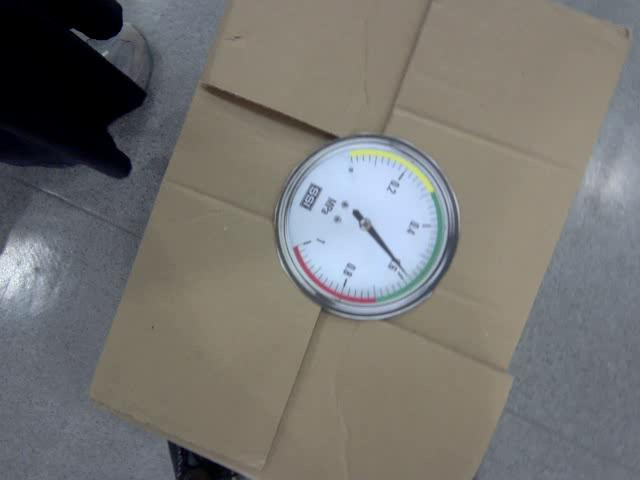Dashboard: (272, 133, 461, 322)
ssi: (298, 183, 321, 212)
